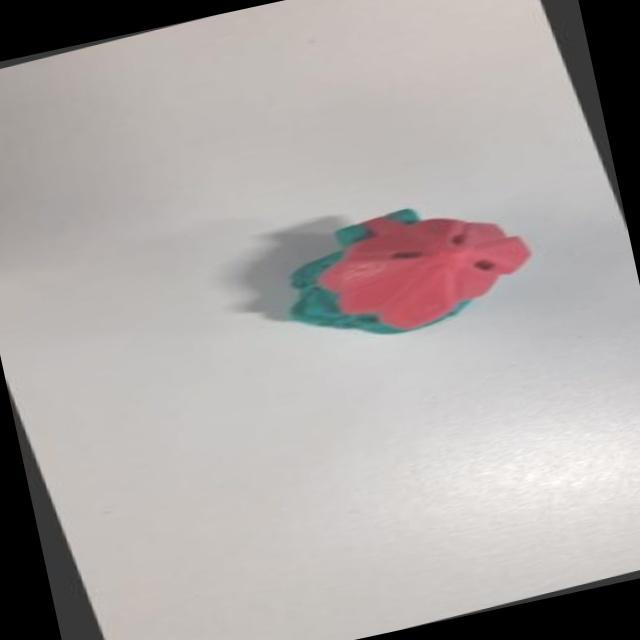House: (245, 181, 554, 373)
